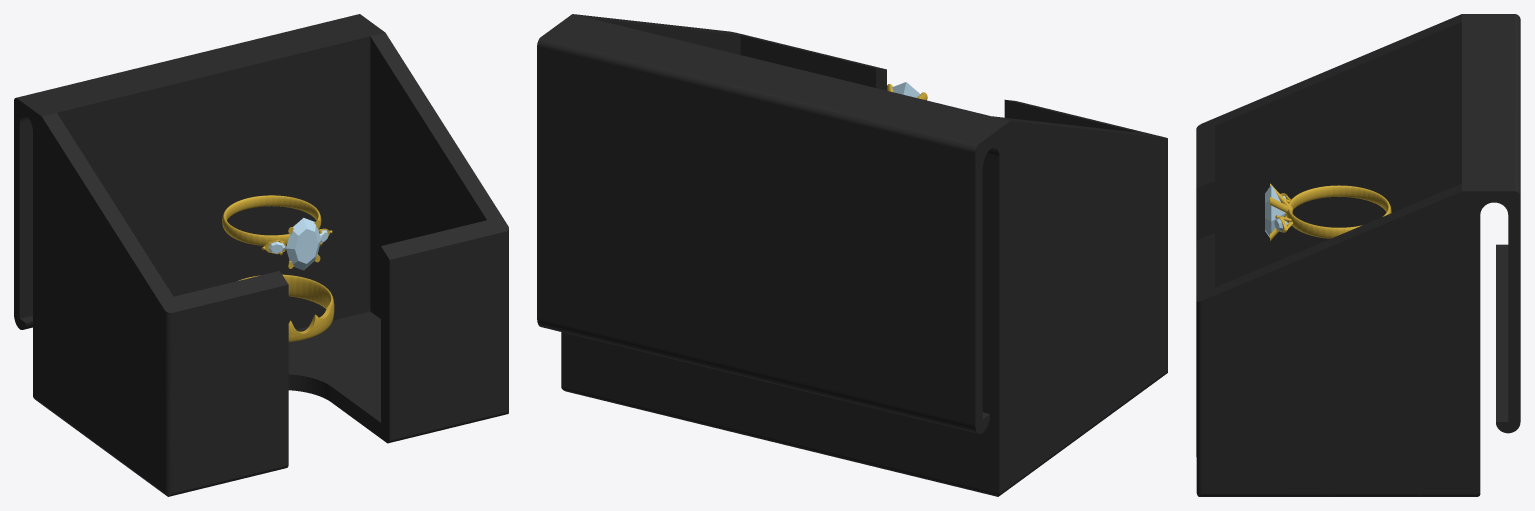
3 renders of one model, left to right at view 1: azimuth 30°, elevation 25°; view 2: azimuth 150°, elevation 25°; view 3: azimuth 270°, elevation 25°, orthographic. The views are drawn at different scales.
Parts seen in each view (by area): view 1: ring_holder, engagement_ring, wedding_band_4mm, engagement_ring_stones; view 2: ring_holder; view 3: ring_holder, engagement_ring, engagement_ring_stones.
Boxes of the visible parts, x1,y1,x2,y2 form: ring_holder: (14, 14, 508, 496); engagement_ring: (222, 195, 332, 268); wedding_band_4mm: (238, 274, 334, 341); engagement_ring_stones: (268, 218, 328, 270); ring_holder: (537, 14, 1167, 496); ring_holder: (1196, 14, 1520, 496); engagement_ring: (1270, 183, 1391, 240); engagement_ring_stones: (1265, 184, 1288, 237).
Size of the model in its own units: 68 by 55 by 52.5.
